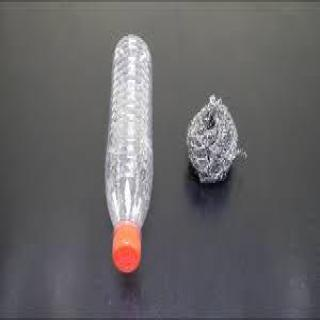Plastic-bottle: (104, 32, 158, 279)
